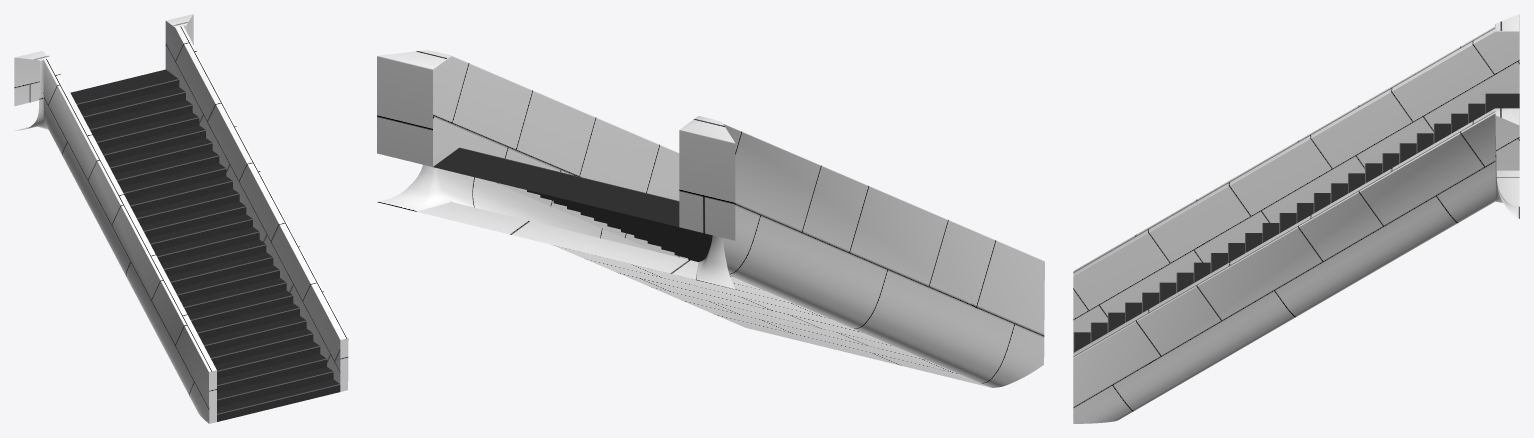
File: Stairs03_265x650cm.FBX
The picture shows the model from 3 angles, left to right: view 1: azimuth 30°, elevation 25°; view 2: azimuth 150°, elevation 25°; view 3: azimuth 270°, elevation 25°; orthographic projection. The views are drawn at different scales.
Parts seen in each view (by area): view 1: Stairs, Parapet; view 2: Parapet, Stairs; view 3: Parapet, Stairs.
Boxes of the visible parts, x1,y1,x2,y2 form: Stairs: (70,69,340,421); Parapet: (14,14,348,423); Parapet: (377,50,1044,387); Stairs: (433,147,712,261); Parapet: (1073,14,1519,423); Stairs: (1073,93,1519,352).
Bounding box in the file's own units: 385 × 500 × 650.
